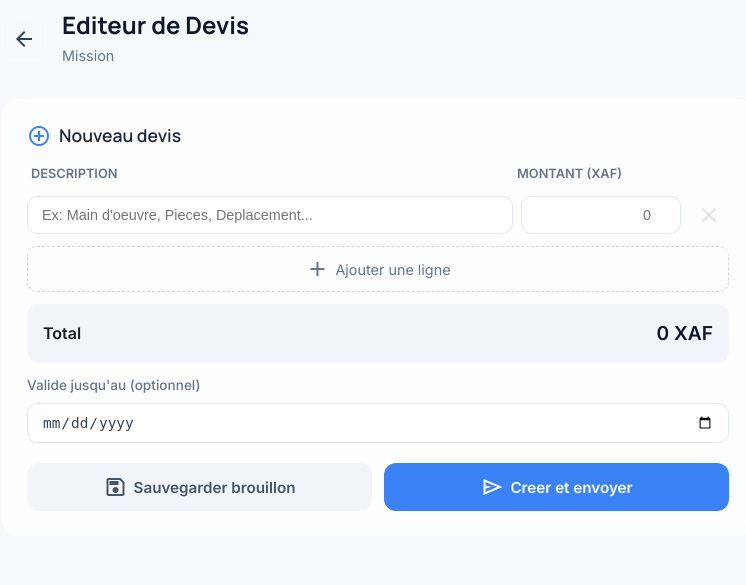
Test: QuoteEditor › refuse un montant total nul
Expected: the button "Creer et envoyer" is shown, [384,463,729,511]
Type "Main d'oeuvre" into the field with placeholder "Ex: Main d'oeuvre, Pieces, Deplacement..." at [270, 215], box [27,196,513,234]
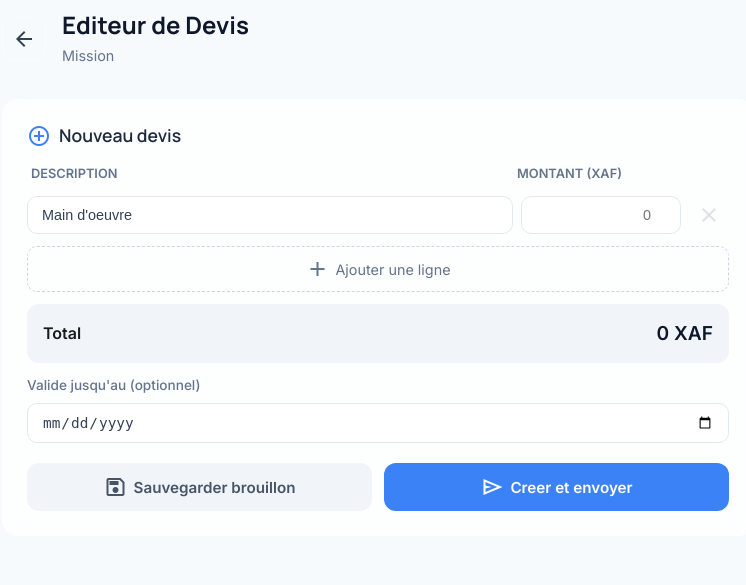
Click the button "Creer et envoyer" at [556, 487], box [384,463,729,511]
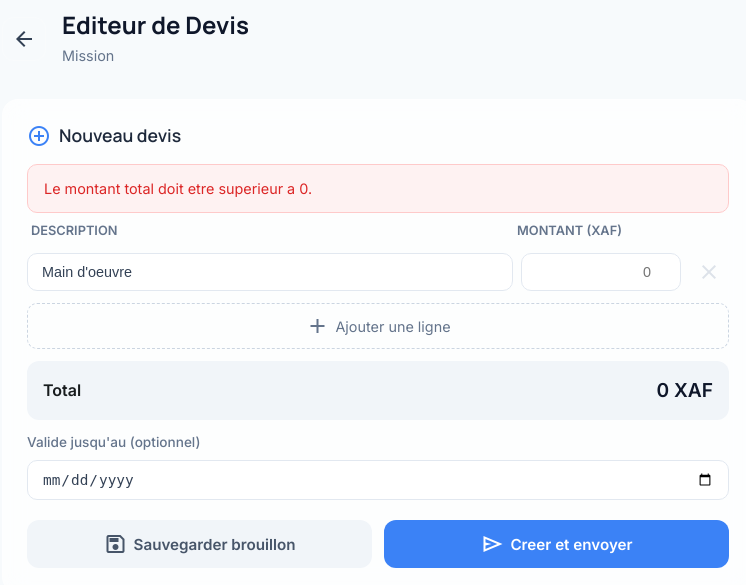
Result: the text "Le montant total doit etre superieur a 0." is shown at [27,164,729,213]
